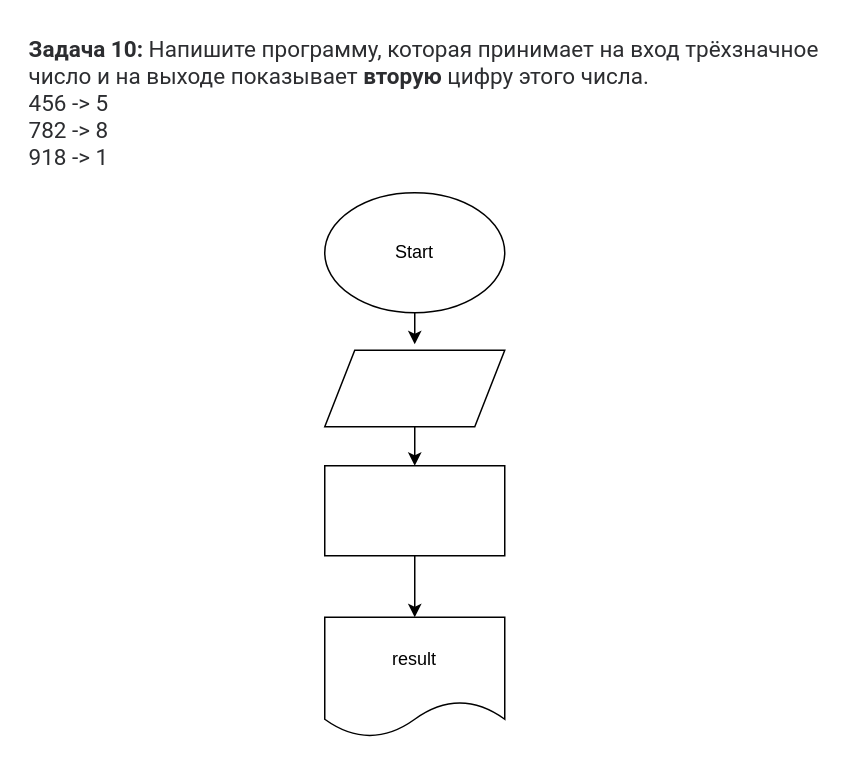
The diagram is 861 pixels wide and 764 high, and some of its shapes have lost their labels. The centre of each missing label's shape, as x and y in pixels:
"number" belongs at pixel 414 388.
"result = number mod 100 / 10" belongs at pixel 414 510.
